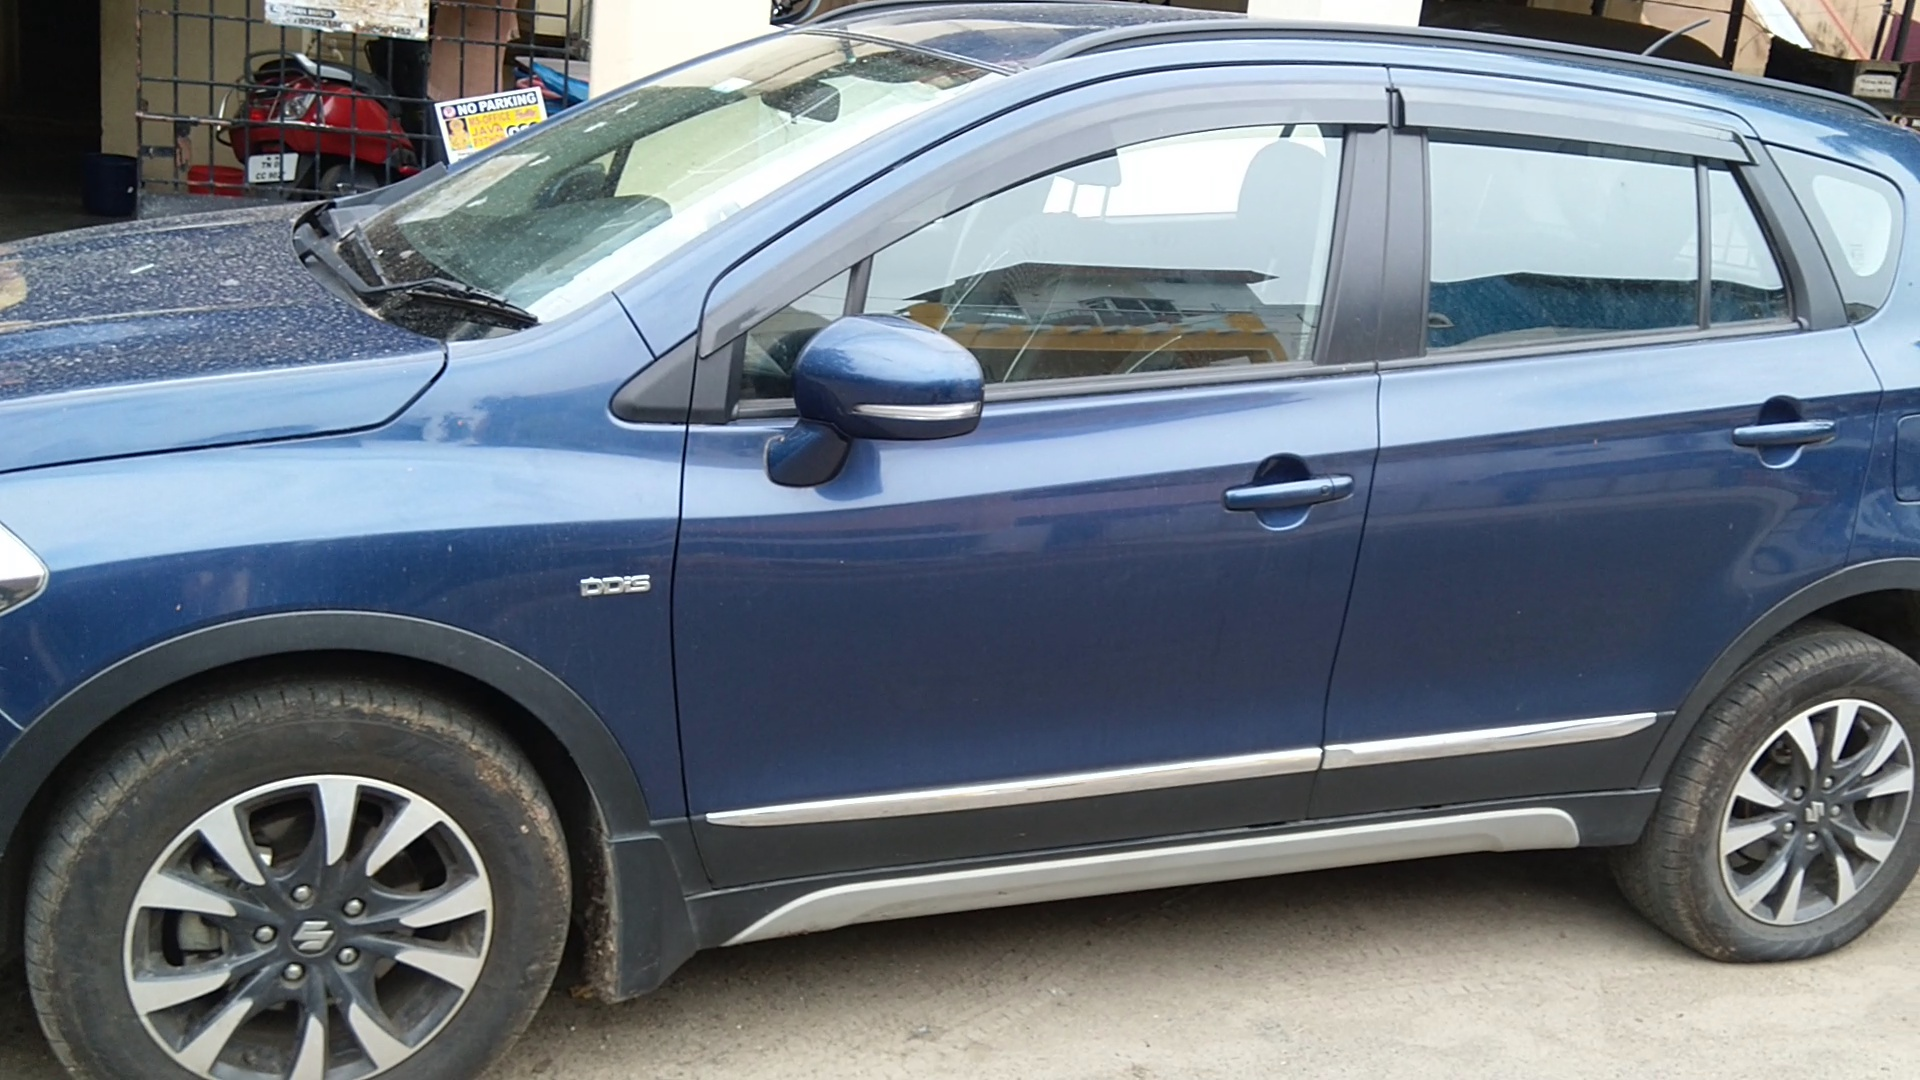alloy_wheel: (20, 694, 560, 1080), (1669, 611, 1913, 986)
ovr_mirror: (761, 302, 994, 487)
